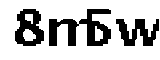6: (89, 2, 114, 50)
8: (11, 4, 45, 51)
m: (46, 14, 90, 51)
w: (115, 13, 160, 50)
